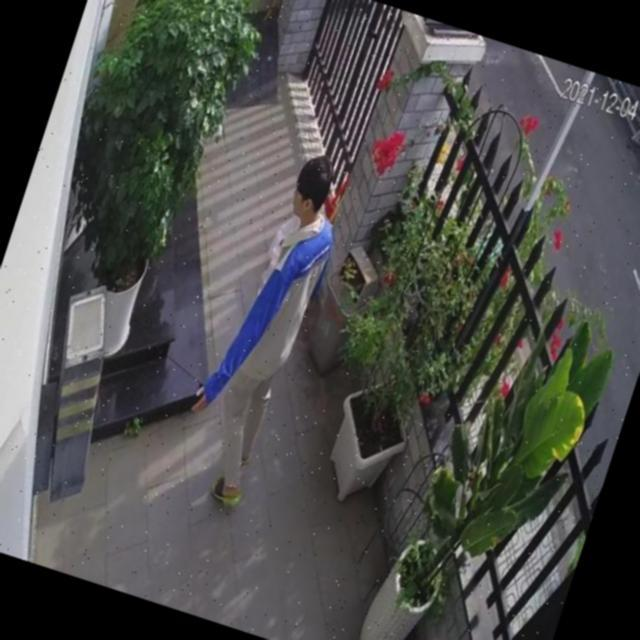person: (165, 141, 357, 514)
